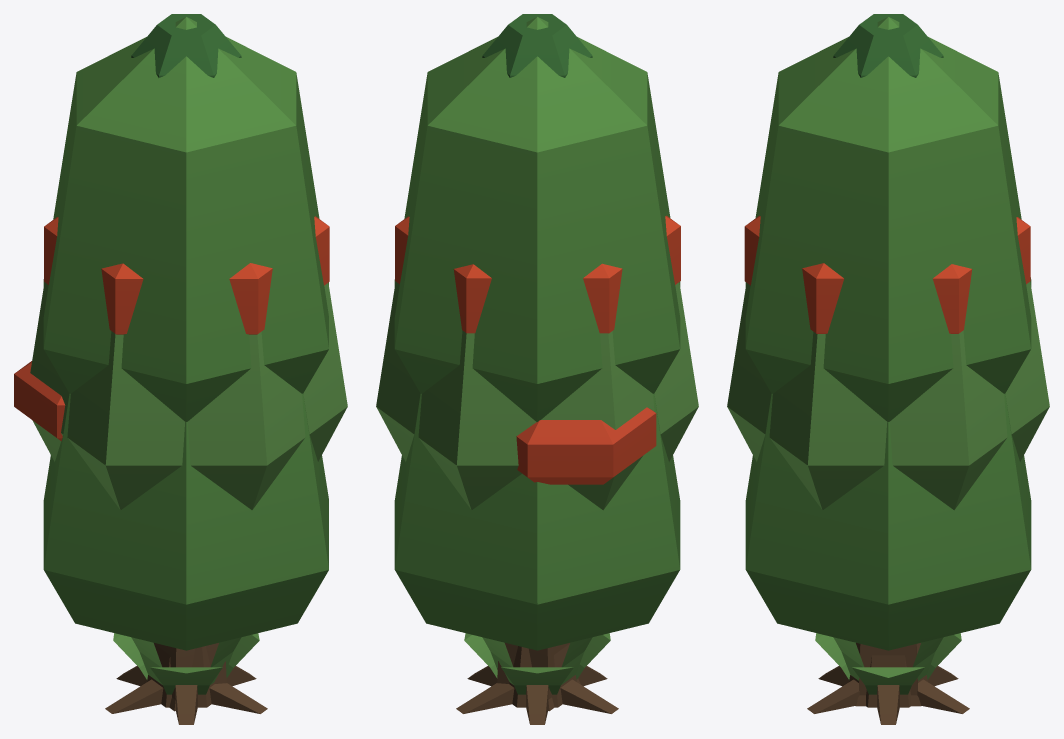
The model's file is kenney-nature.glb.
3 renders of one model, left to right at view 1: azimuth 30°, elevation 25°; view 2: azimuth 150°, elevation 25°; view 3: azimuth 270°, elevation 25°, orthographic.
Parts seen in each view (by area): view 1: tree_default, tree_fat, tree_oak, tree_plateau, tree_tall, plant_bushLarge; view 2: tree_default, tree_fat, tree_oak, tree_plateau, tree_tall, plant_bushLarge; view 3: tree_default, tree_fat, tree_oak, tree_plateau, tree_tall, plant_bushLarge.
Part boxes in pixels (x1,y1,x2,y2): tree_default: [43, 17, 328, 699]; tree_fat: [43, 393, 328, 650]; tree_oak: [30, 282, 347, 724]; tree_plateau: [14, 216, 329, 441]; tree_tall: [131, 14, 241, 77]; plant_bushLarge: [113, 633, 259, 694]; tree_default: [394, 17, 680, 699]; tree_fat: [394, 393, 680, 650]; tree_oak: [376, 282, 698, 724]; tree_plateau: [395, 215, 680, 484]; tree_tall: [482, 14, 592, 77]; plant_bushLarge: [464, 633, 610, 694]; tree_default: [745, 17, 1031, 695]; tree_fat: [745, 393, 1031, 650]; tree_oak: [727, 282, 1049, 724]; tree_plateau: [744, 215, 1030, 333]; tree_tall: [833, 14, 943, 77]; plant_bushLarge: [815, 633, 961, 694].
Bounding box in the file's own units: 0.755 × 1.71 × 0.7396.
